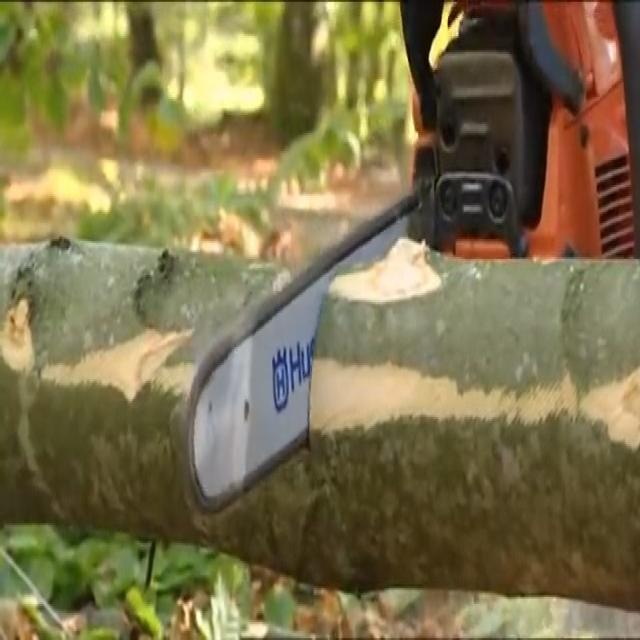Chainsaw: (165, 0, 640, 536)
